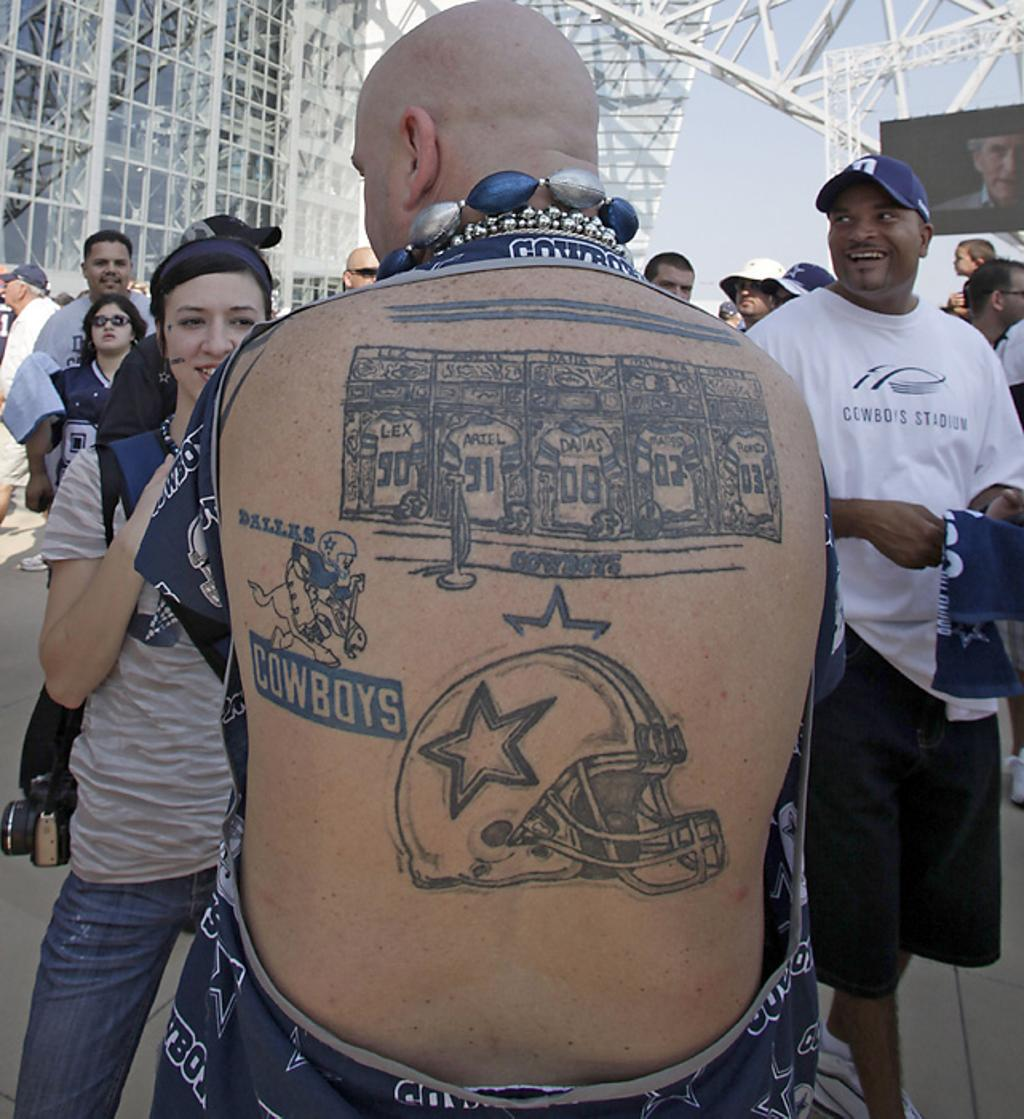face: (350, 100, 457, 296), (169, 293, 268, 401), (830, 193, 920, 295), (983, 140, 1023, 198), (87, 249, 130, 295), (93, 310, 127, 349), (352, 263, 386, 300), (656, 271, 693, 304), (736, 278, 769, 315), (1002, 277, 1024, 324), (776, 289, 805, 321), (954, 250, 976, 275), (3, 283, 20, 306), (723, 314, 738, 329)
